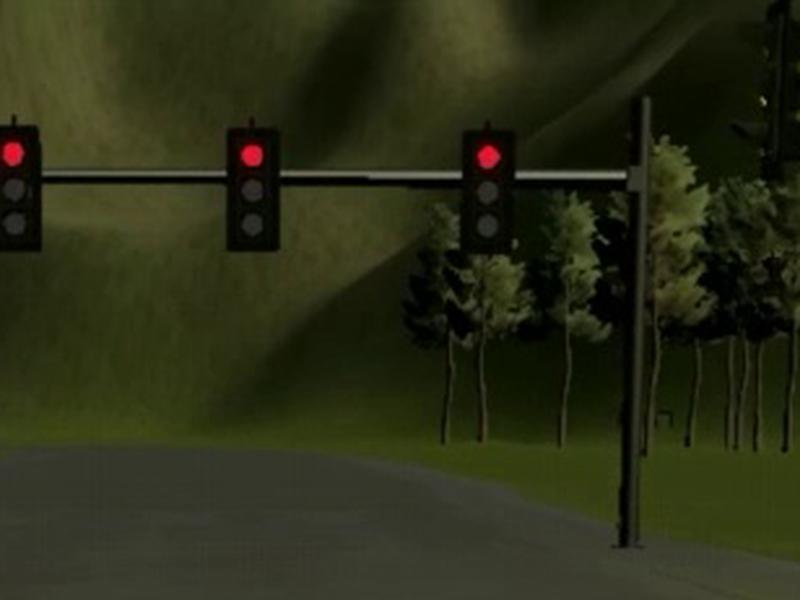Red: (227, 127, 282, 252), (463, 129, 513, 255), (1, 125, 41, 253)
